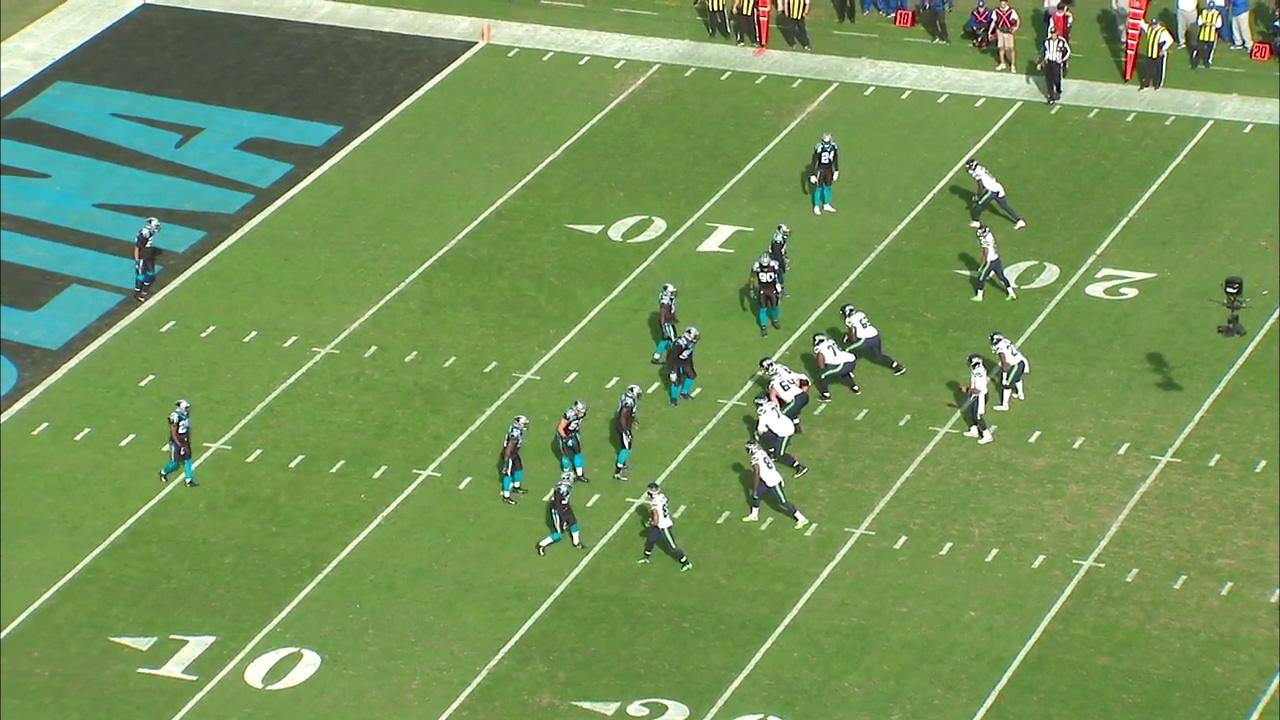player: (741, 438, 813, 532), (635, 480, 694, 573), (836, 303, 908, 379), (751, 392, 810, 481), (532, 470, 588, 561), (962, 157, 1028, 231), (968, 224, 1021, 304), (808, 331, 864, 403), (158, 397, 201, 490), (988, 329, 1031, 414), (610, 383, 646, 484), (496, 413, 533, 509), (958, 354, 995, 447), (746, 253, 784, 341), (554, 398, 592, 486), (806, 131, 842, 218), (664, 325, 702, 407), (129, 216, 163, 303), (766, 371, 810, 436), (651, 281, 681, 367), (764, 222, 794, 300), (758, 357, 811, 393)
ref: (1035, 26, 1072, 107)
